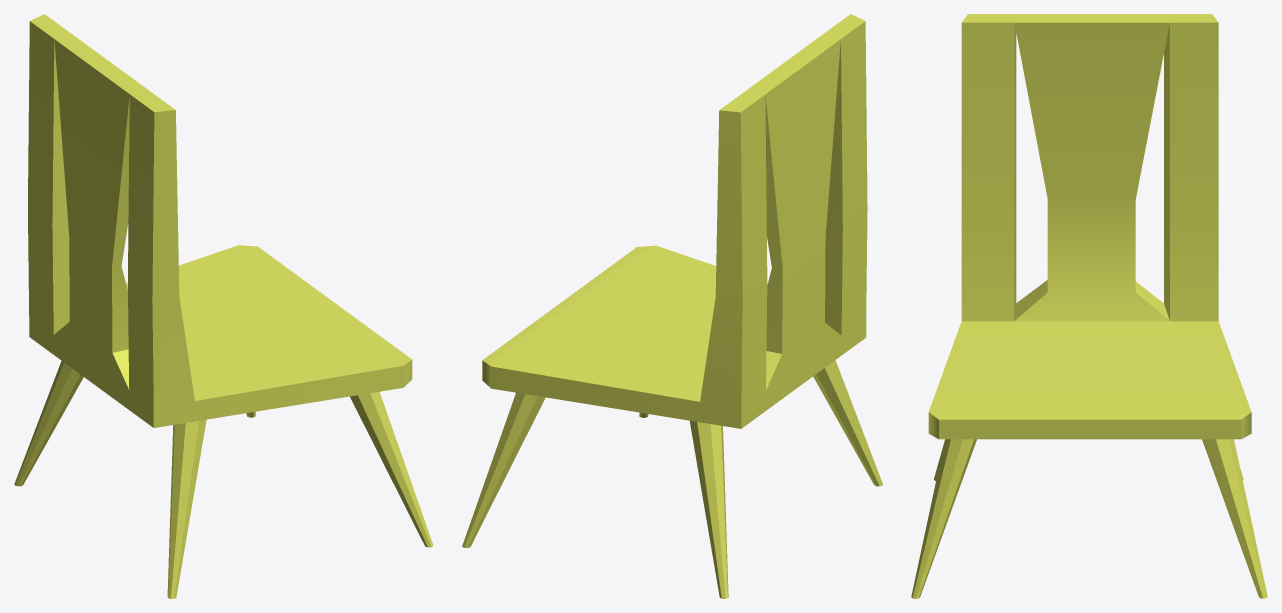
The model's file is chairSquare2.0.fbx.
3 renders of one model, left to right at view 1: azimuth 30°, elevation 25°; view 2: azimuth 150°, elevation 25°; view 3: azimuth 270°, elevation 25°, orthographic. The views are drawn at different scales.
Visible parts, largest first — view 1: chairSquare; view 2: chairSquare; view 3: chairSquare.
Part boxes in pixels (box(x1,y1,x2,y2)): chairSquare: box(14, 14, 433, 598); chairSquare: box(462, 14, 882, 598); chairSquare: box(911, 14, 1267, 598).
Bounding box in the file's own units: 4.38 × 7.82 × 5.44.
